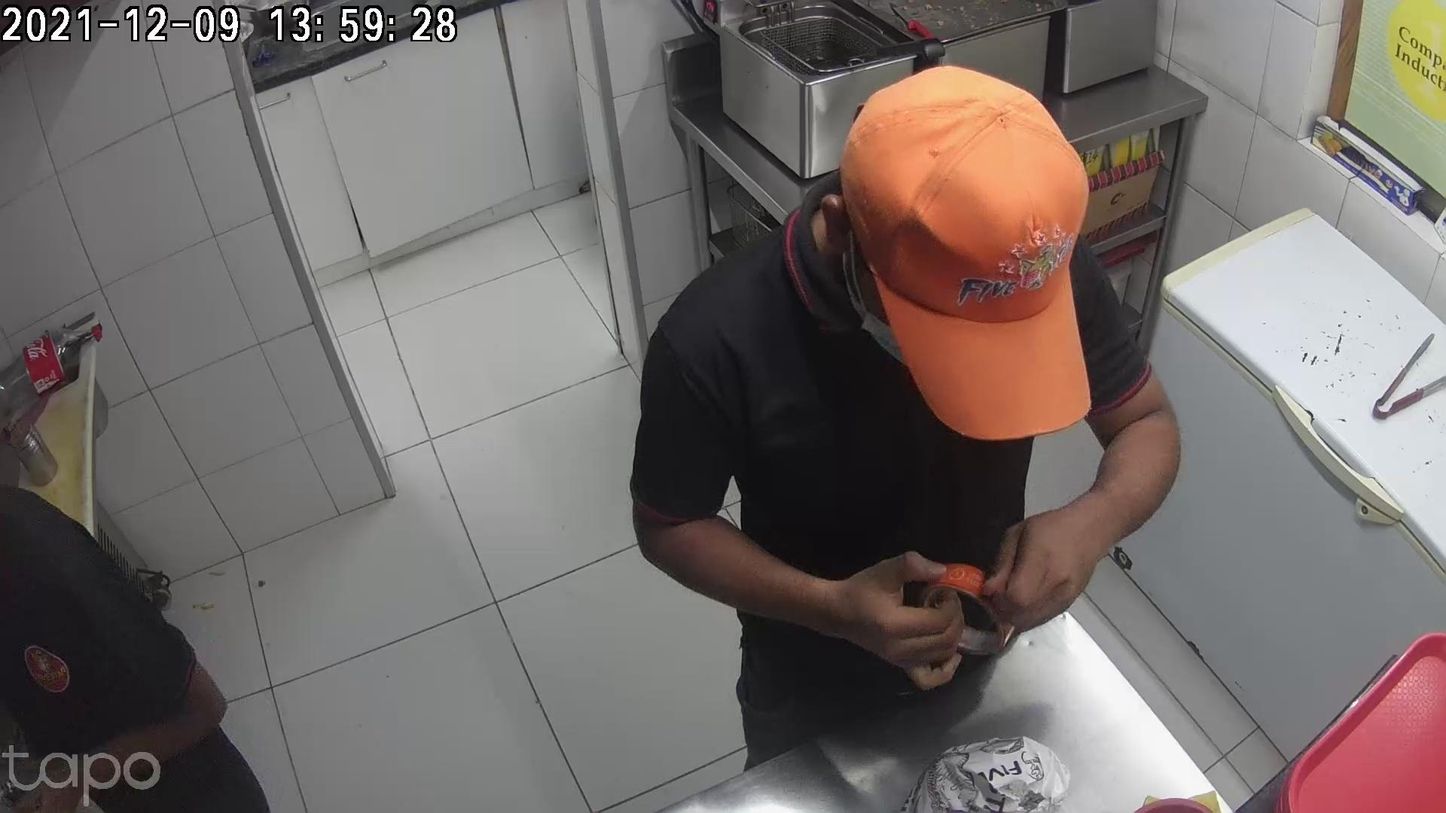no_gloves: (793, 567, 966, 663), (980, 505, 1113, 609)
